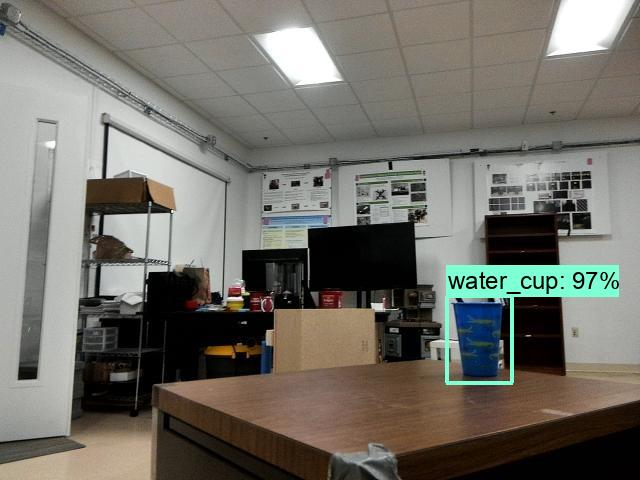water_cup: (449, 294, 511, 387)
